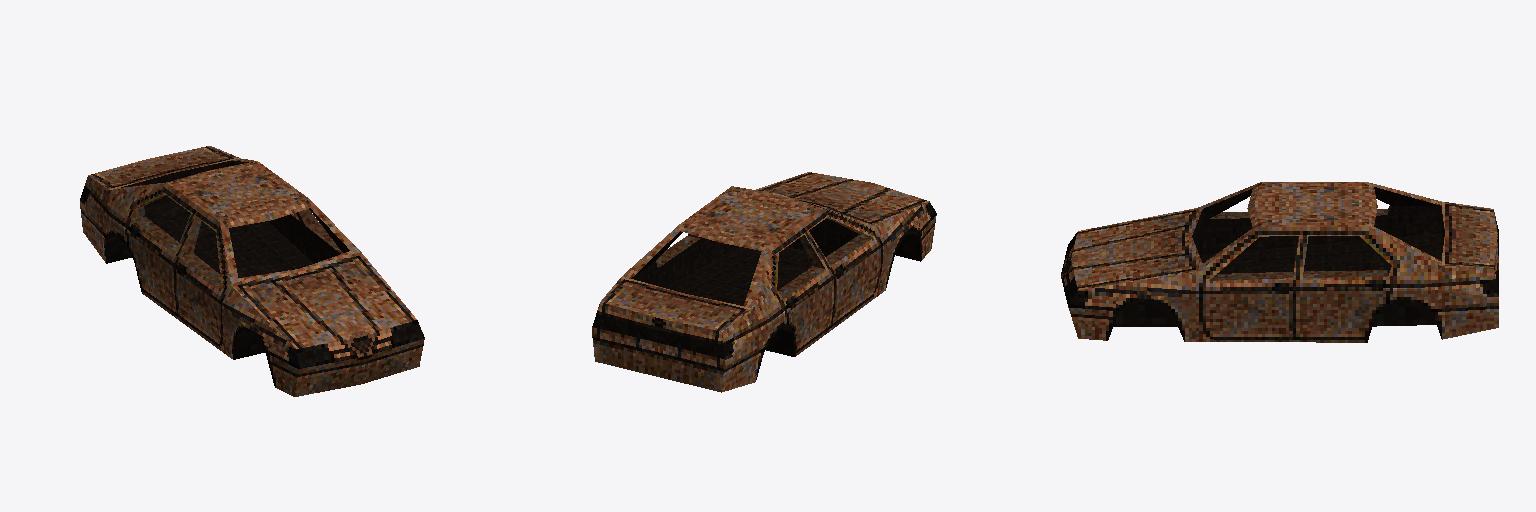
3 renders of one model, left to right at view 1: azimuth 30°, elevation 25°; view 2: azimuth 150°, elevation 25°; view 3: azimuth 270°, elevation 25°, orthographic.
Parts seen in each view (by area): view 1: Car6; view 2: Car6; view 3: Car6.
Part boxes in pixels (x1,y1,x2,y2): Car6: (80,146,424,396); Car6: (592,172,936,392); Car6: (1061,182,1498,342).
Bounding box in the file's own units: 2.48 × 1.67 × 6.36.
Materials: 1 (1 with a texture image).